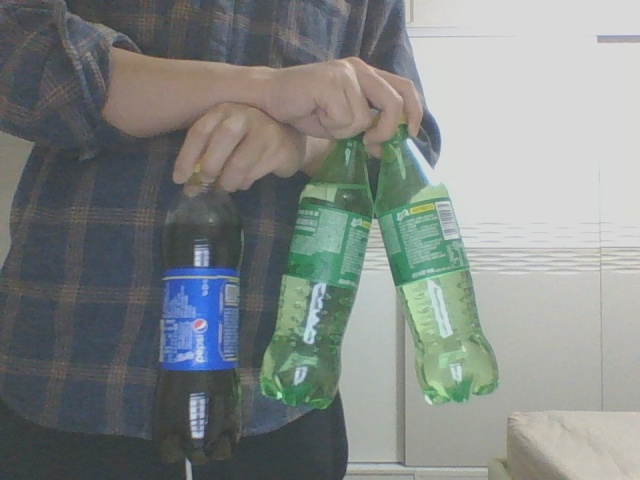Cola: (152, 160, 241, 463)
Sprite: (377, 117, 499, 406), (259, 137, 373, 408)
